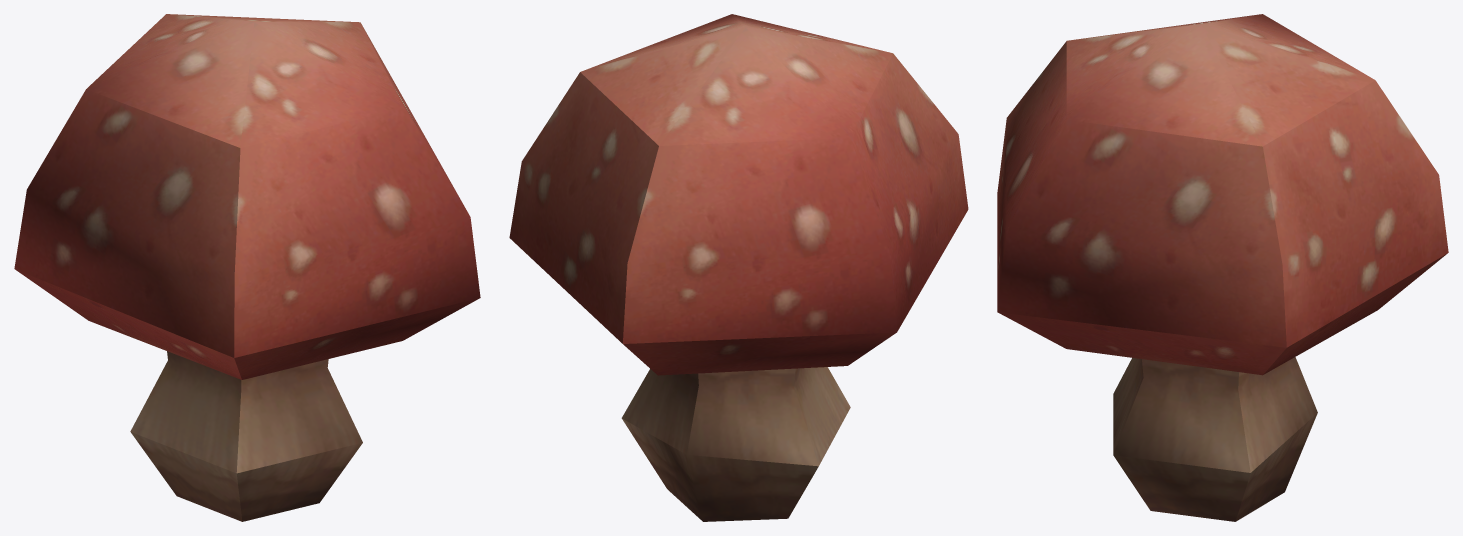
3 renders of one model, left to right at view 1: azimuth 30°, elevation 25°; view 2: azimuth 150°, elevation 25°; view 3: azimuth 270°, elevation 25°, orthographic.
Visible parts, largest first — view 1: UE704; view 2: UE704; view 3: UE704.
Boxes of the visible parts, left/top/right/bottom form: UE704: left=14, top=14, right=480, bottom=521; UE704: left=509, top=14, right=968, bottom=521; UE704: left=997, top=14, right=1448, bottom=521.
Bounding box in the file's own units: 0.6507 × 0.7453 × 0.6526.
